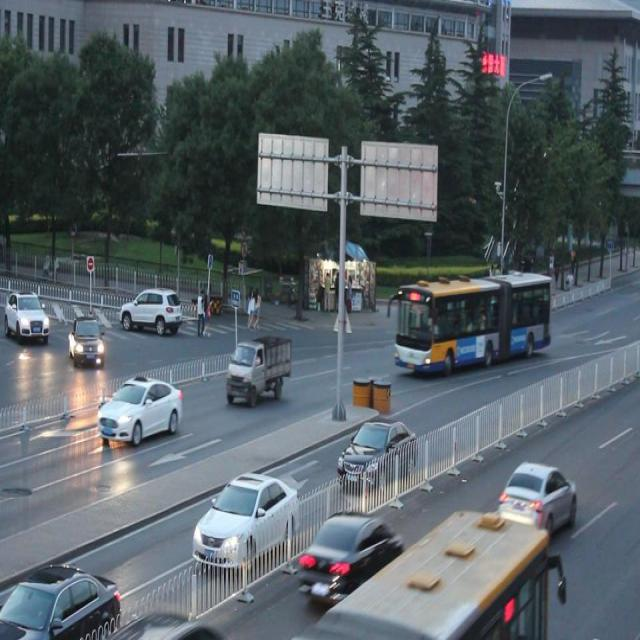bus: (225, 338, 292, 402)
car: (193, 474, 299, 568), (299, 509, 401, 600), (1, 563, 118, 640), (98, 375, 184, 444), (498, 457, 576, 531), (339, 420, 416, 488), (118, 605, 221, 640), (124, 288, 180, 334), (1, 290, 49, 342), (68, 312, 106, 369)
van: (293, 503, 549, 640), (396, 273, 552, 376)
